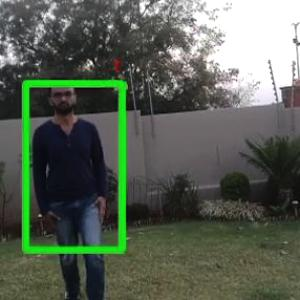follow: (39, 85, 106, 296)
